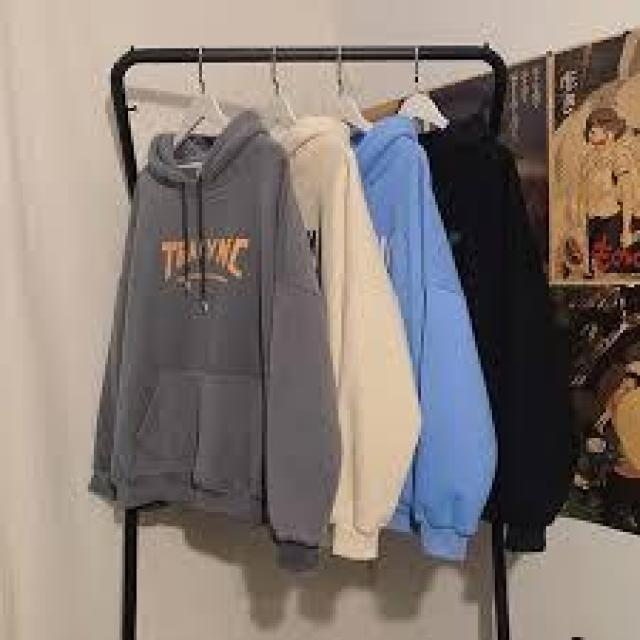sweater: (110, 134, 332, 546)
